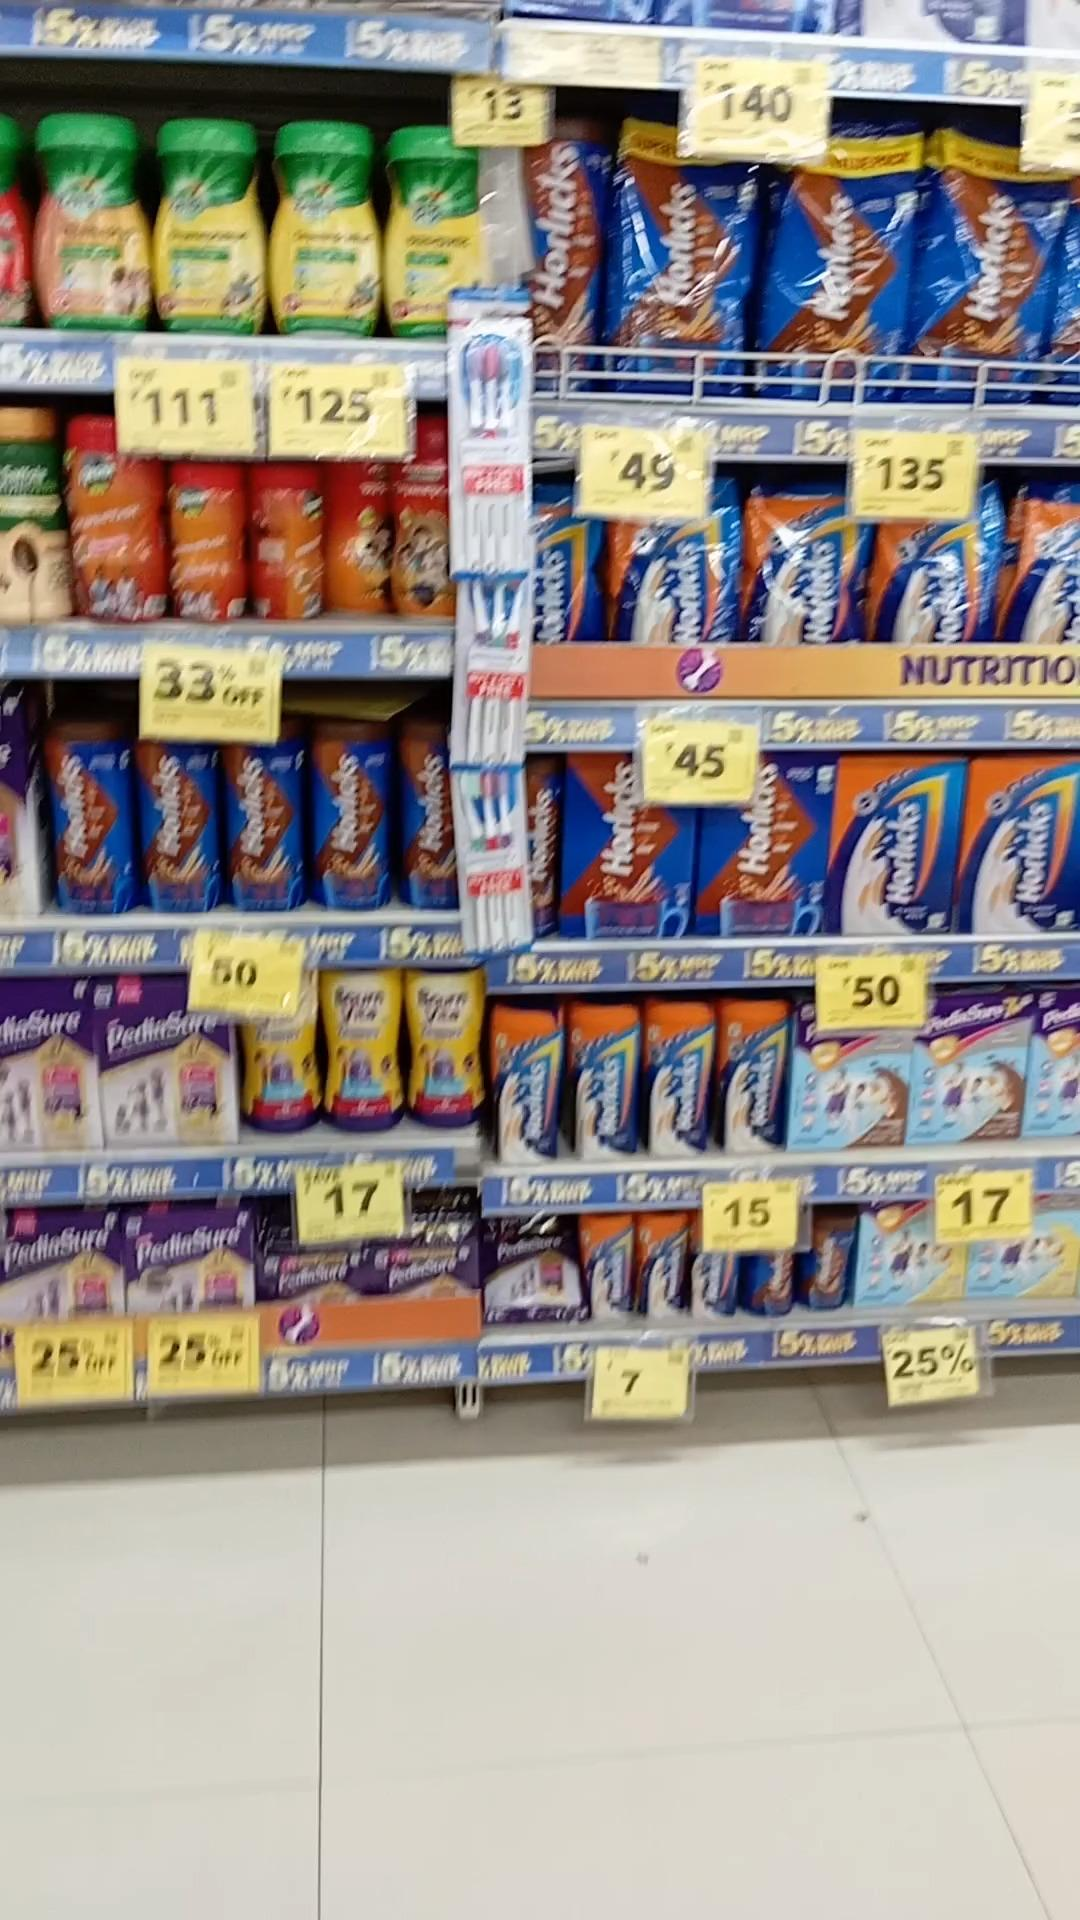BOURN_VITA_CHAMPS_500_G_JAR: (318, 969, 402, 1135), (411, 971, 489, 1134), (244, 1013, 313, 1143)
HORLICK_CHOCOLATE_1_KG_JAR: (512, 111, 599, 394), (45, 736, 133, 918), (311, 723, 389, 915), (137, 733, 218, 919), (227, 733, 302, 922), (406, 720, 458, 920)
HORLICK_CHOCOLATE_200_G_JAR: (799, 1203, 853, 1315)
HORLICK_CHOCOLATE_500_G_PACK: (558, 756, 688, 944), (699, 761, 822, 942)
HORLICK_CHOCOLATE_750_G_POUCH: (761, 125, 916, 398), (919, 132, 1065, 404), (615, 142, 753, 406)
HORLICK_CLASSIC_MALT_200_G_JAR: (636, 1215, 687, 1319), (579, 1216, 628, 1323)
HORLICK_CLASSIC_MALT_500_G_JAR: (488, 1004, 559, 1174), (568, 1002, 637, 1167), (647, 1004, 711, 1162), (720, 1000, 781, 1159)
HORLICK_CLASSIC_MALT_500_G_PACK: (831, 756, 960, 945), (969, 749, 1080, 934)
HORLICK_CLASSIC_MALT_750_G_POUCH: (604, 481, 735, 636), (873, 495, 997, 651), (749, 483, 864, 644)
PEDIASURE_7_PLUS_CHOCOLATE_400_G_PACK: (911, 992, 1023, 1143), (791, 1006, 901, 1155)
PEDIASURE_VANILLA_500_G_PACK: (98, 980, 231, 1150), (0, 978, 90, 1153), (124, 1215, 253, 1312), (1, 1211, 117, 1319)
